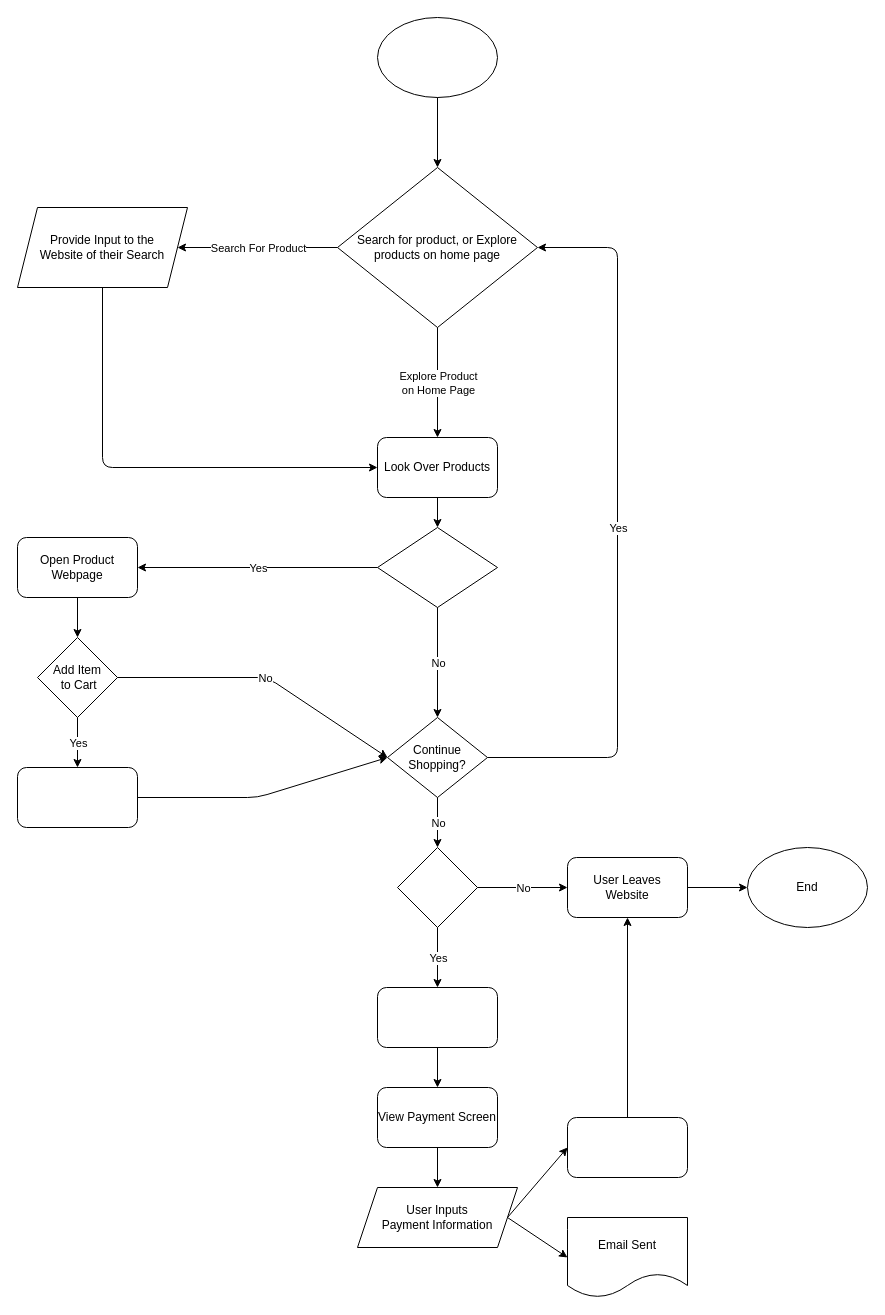
This 885x1315 diagram has some shape labels left out. The shapes that lost their labels are listed below. From the top down, each one's box as (x1, y1, x2, y2) in pixels, then its label:
(376, 16, 498, 98): Enter Website
(376, 526, 498, 608): View a specific product?
(16, 766, 138, 828): Confirm Yes
(396, 846, 478, 928): Checkout?
(376, 986, 498, 1048): View Cart Screen
(566, 1116, 688, 1178): Order Confirmation Screen
